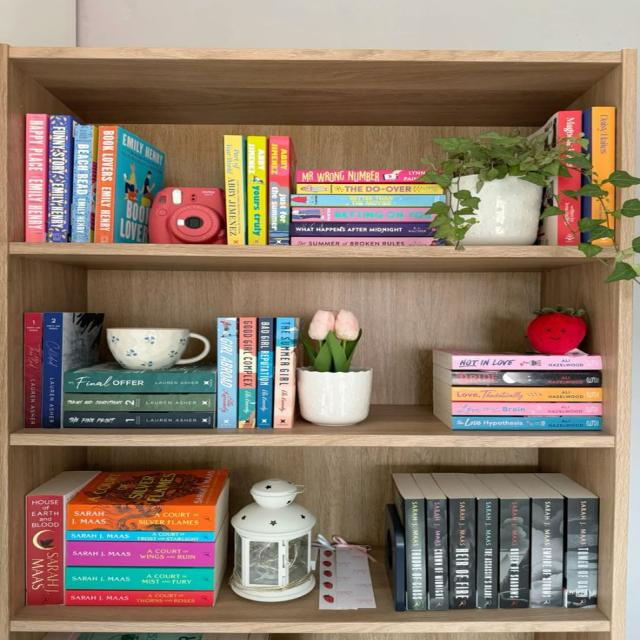book: (95, 125, 164, 242), (66, 540, 214, 568), (26, 495, 63, 605), (68, 504, 213, 531), (46, 116, 77, 242), (532, 498, 564, 608), (65, 567, 214, 590), (24, 114, 50, 242), (557, 112, 582, 244), (500, 499, 530, 608), (70, 123, 97, 241), (593, 107, 616, 245), (568, 498, 596, 609), (449, 499, 476, 609), (64, 373, 215, 392), (65, 393, 217, 411), (427, 498, 449, 610), (223, 135, 245, 245), (65, 412, 216, 428), (269, 136, 291, 245), (66, 590, 214, 606), (406, 498, 427, 610), (477, 498, 498, 608), (43, 312, 63, 427), (453, 372, 602, 387), (217, 317, 237, 428), (247, 136, 267, 245), (292, 222, 442, 236), (453, 387, 603, 401), (453, 402, 602, 416), (293, 208, 440, 222), (24, 313, 42, 427), (276, 316, 294, 428), (454, 417, 604, 430), (452, 356, 600, 369), (297, 170, 441, 183), (293, 195, 447, 207), (66, 530, 215, 542), (240, 318, 256, 428), (296, 183, 444, 194), (259, 318, 271, 427), (292, 238, 443, 245)
camera: (150, 187, 224, 243)
flowers: (299, 309, 373, 429)
plants: (435, 133, 558, 249)
